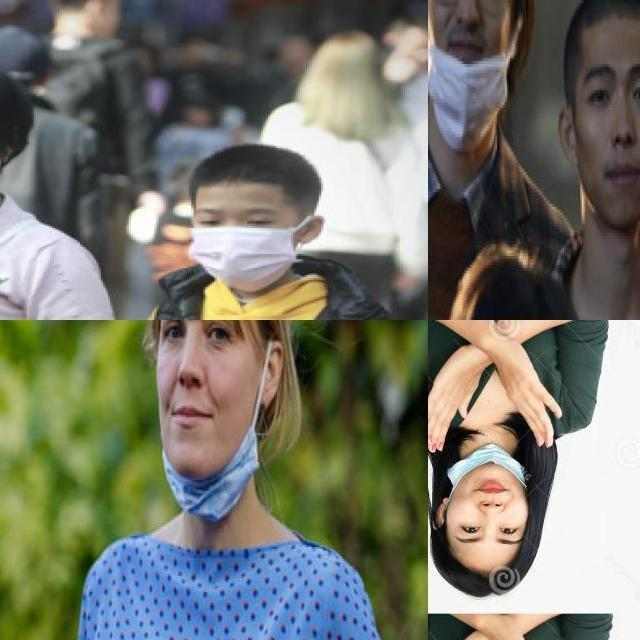hairnet: (155, 380, 265, 508), (428, 0, 508, 138), (444, 450, 529, 509)
no_hairnet: (568, 114, 640, 218)
